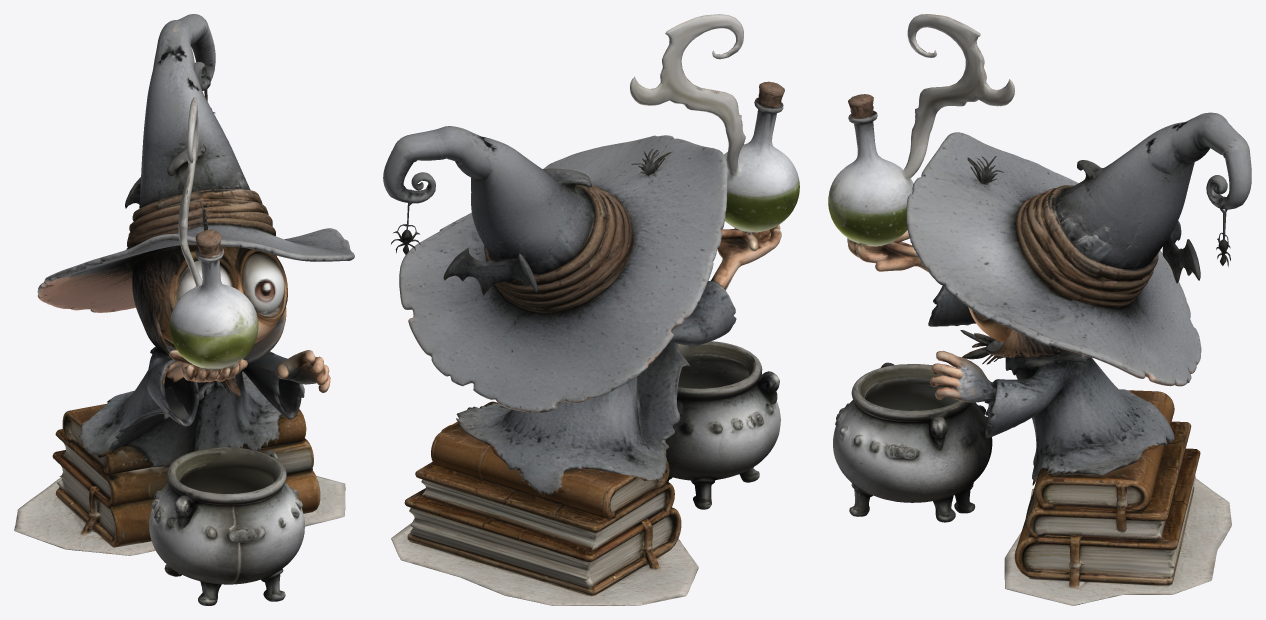
File: pixellabs-fantasy-art-4885.high.glb
3 renders of one model, left to right at view 1: azimuth 30°, elevation 25°; view 2: azimuth 150°, elevation 25°; view 3: azimuth 270°, elevation 25°, orthographic. The views are drawn at different scales.
Parts seen in each view (by area): view 1: node_0; view 2: node_0; view 3: node_0.
Boxes of the visible parts, <box> form: node_0: <box>14,14,354,605</box>; node_0: <box>383,14,799,605</box>; node_0: <box>828,14,1251,605</box>.
Bounding box in the file's own units: 0.6162 × 0.9458 × 0.7509.
1 material, 1 textured.
